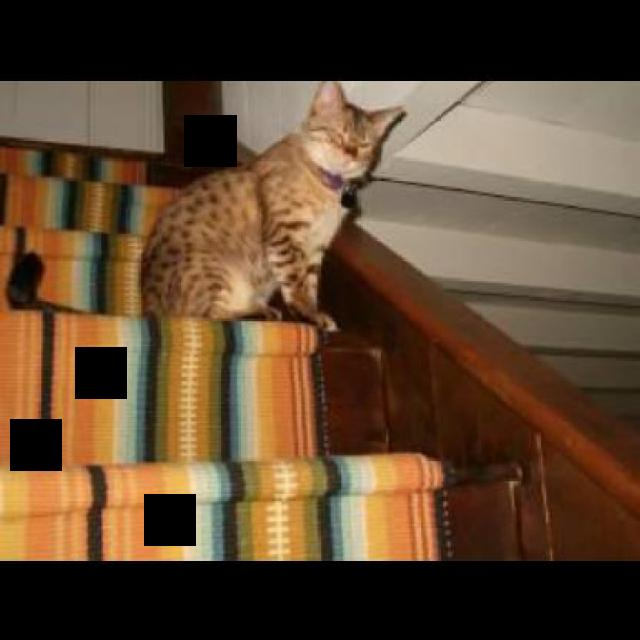unauthorized: (137, 78, 406, 334)
